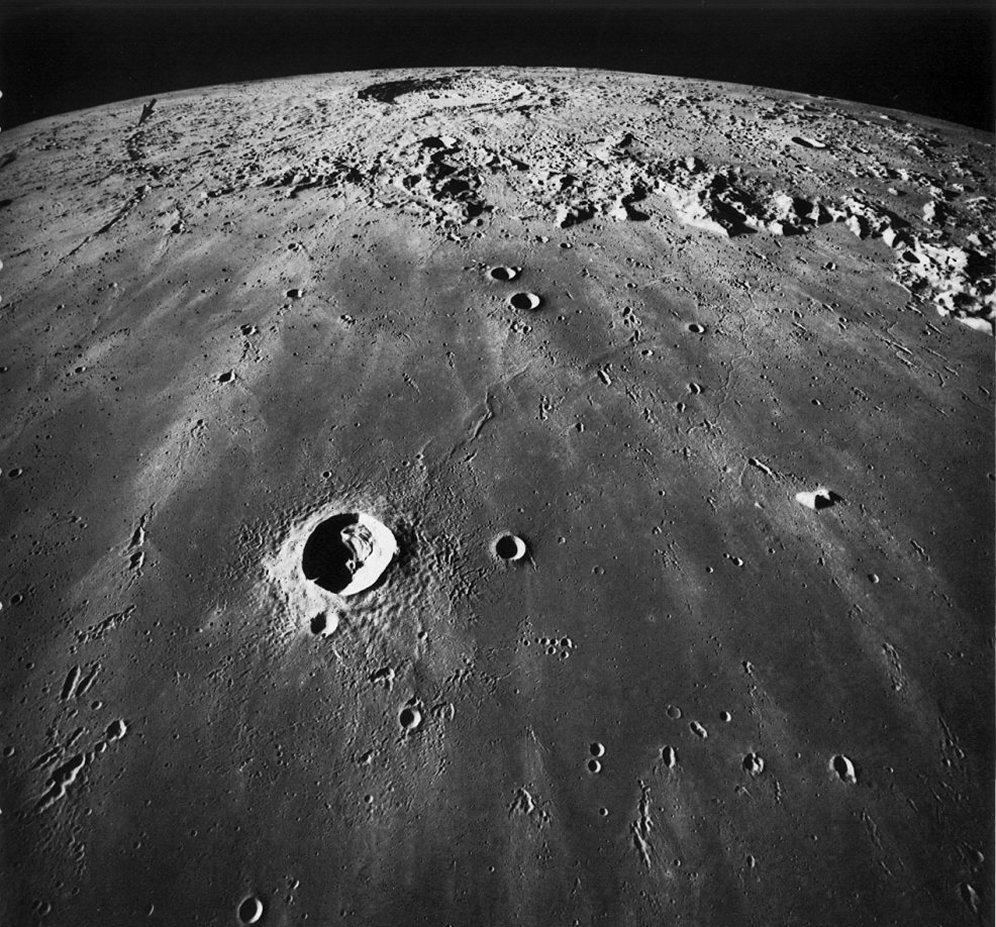crater: (255, 483, 433, 640), (473, 473, 593, 603), (446, 283, 624, 357)
